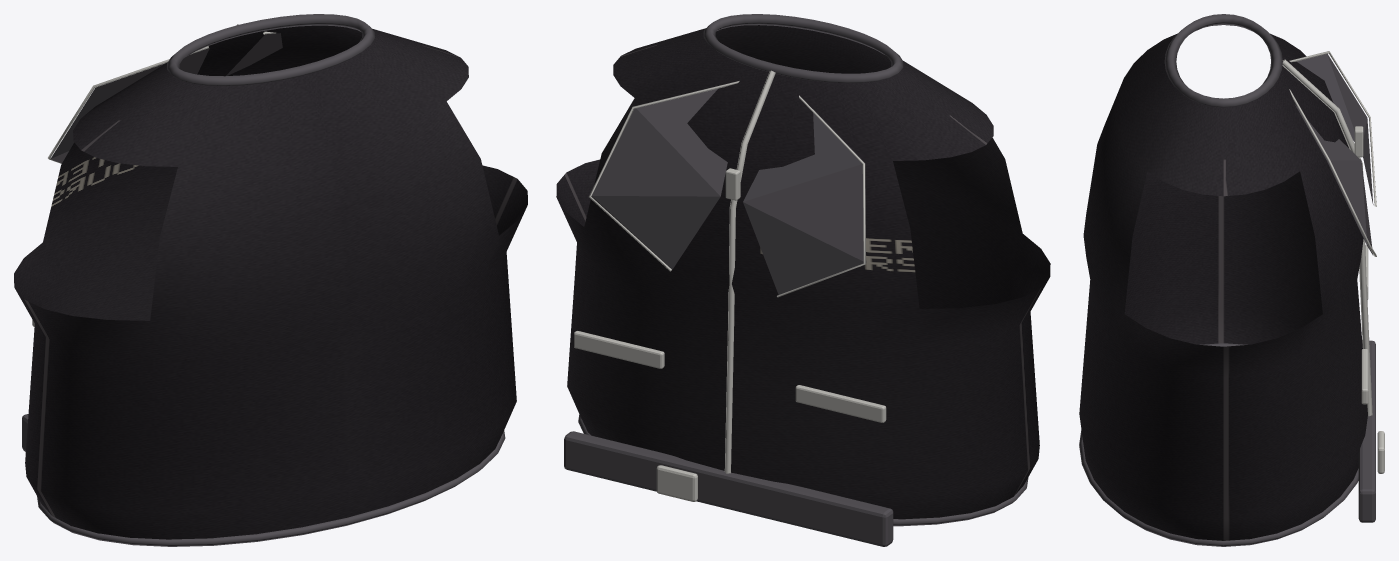
File: AH_TOP_03.fbx
3 views of the same model, side by side, from view 1: azimuth 30°, elevation 25°; view 2: azimuth 150°, elevation 25°; view 3: azimuth 270°, elevation 25° (orthographic). The views are drawn at different scales.
Parts seen in each view (by area): view 1: Camiseta_com_caimento.007, BlenderTopo_Gola.006, BlenderTopo_Barra.006, BlenderTopo_Lapela, BlenderTopo_Lapela.001; view 2: Camiseta_com_caimento.007, BlenderTopo_Lapela.001, BlenderTopo_Lapela, BlenderTopo_Cinto, BlenderTopo_Gola.006, BlenderTopo_Ziper, BlenderTopo_Bolso_zip, BlenderTopo_Bolso_zip.001, BlenderTopo_Fivela, BlenderTopo_Barra.006, BlenderTopo_Costura_lapela.001, BlenderTopo_Costura_lapela; view 3: Camiseta_com_caimento.007, BlenderTopo_Gola.006, BlenderTopo_Barra.006, BlenderTopo_Lapela.001, BlenderTopo_Lapela, BlenderTopo_Cinto, BlenderTopo_Ziper, BlenderTopo_Costura_lapela, BlenderTopo_Costura_lapela.001, BlenderTopo_Bolso_zip.001.
Part boxes in pixels (x1,y1,x2,y2): Camiseta_com_caimento.007: (14, 25, 527, 539); BlenderTopo_Gola.006: (167, 14, 374, 85); BlenderTopo_Barra.006: (37, 430, 505, 546); BlenderTopo_Lapela: (50, 48, 209, 162); BlenderTopo_Lapela.001: (226, 33, 282, 75); Camiseta_com_caimento.007: (556, 25, 1050, 519); BlenderTopo_Lapela.001: (592, 89, 727, 269); BlenderTopo_Lapela: (743, 109, 866, 294); BlenderTopo_Cinto: (564, 431, 893, 546); BlenderTopo_Gola.006: (703, 14, 903, 83); BlenderTopo_Ziper: (724, 70, 775, 473); BlenderTopo_Bolso_zip: (795, 385, 886, 422); BlenderTopo_Bolso_zip.001: (574, 331, 664, 368); BlenderTopo_Fivela: (656, 465, 697, 501); BlenderTopo_Barra.006: (578, 414, 1028, 526); BlenderTopo_Costura_lapela.001: (589, 81, 739, 271); BlenderTopo_Costura_lapela: (777, 95, 865, 297); Camiseta_com_caimento.007: (1079, 24, 1367, 540); BlenderTopo_Gola.006: (1164, 14, 1282, 107); BlenderTopo_Barra.006: (1079, 343, 1358, 546); BlenderTopo_Lapela.001: (1295, 105, 1373, 255); BlenderTopo_Lapela: (1297, 53, 1373, 204); BlenderTopo_Cinto: (1358, 340, 1375, 522); BlenderTopo_Ziper: (1282, 59, 1372, 416); BlenderTopo_Costura_lapela: (1289, 51, 1376, 206); BlenderTopo_Costura_lapela.001: (1289, 89, 1376, 256); BlenderTopo_Bolso_zip.001: (1361, 349, 1368, 404).
Size of the model in its own units: 107 by 88.1 by 62.15.
3 materials, 1 textured.
